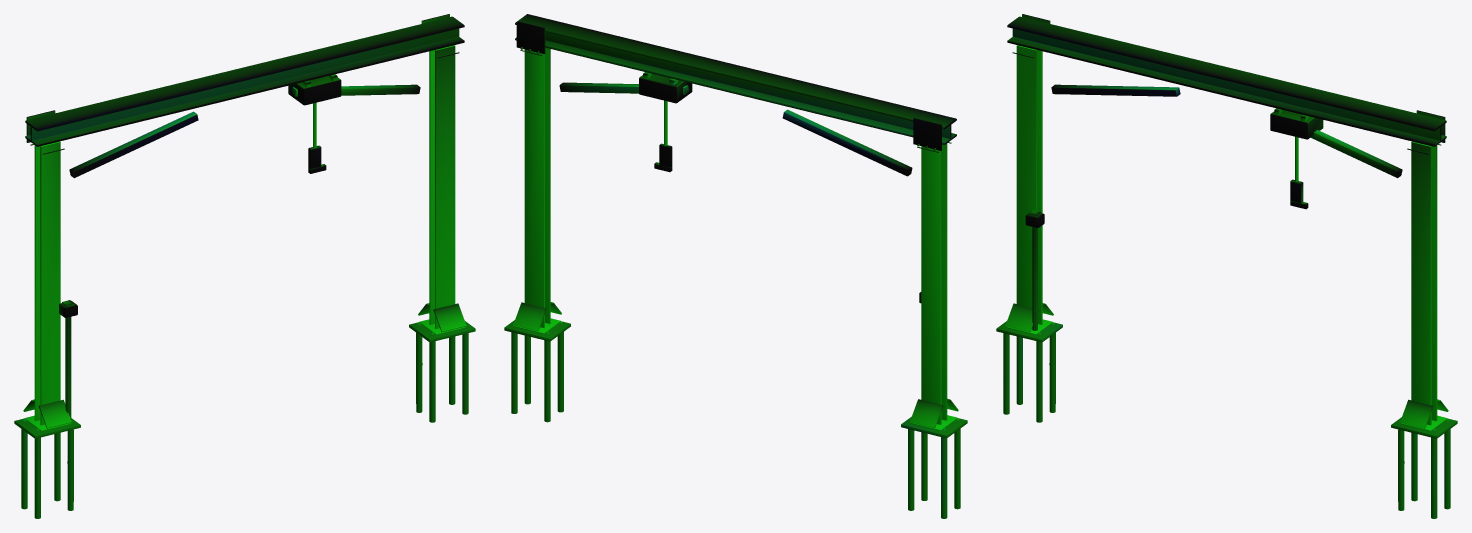
The model's file is loading_frame.glb.
3 views of the same model, side by side, from view 1: azimuth 30°, elevation 25°; view 2: azimuth 150°, elevation 25°; view 3: azimuth 330°, elevation 25° (orthographic).
Visible parts, largest first — view 1: LoadingFrame; view 2: LoadingFrame; view 3: LoadingFrame.
Part boxes in pixels (box(x1,y1,x2,y2)): LoadingFrame: box(14, 14, 475, 518); LoadingFrame: box(504, 14, 967, 518); LoadingFrame: box(996, 14, 1457, 518).
Bounding box in the file's own units: 5.36 × 4.53 × 0.5064.
